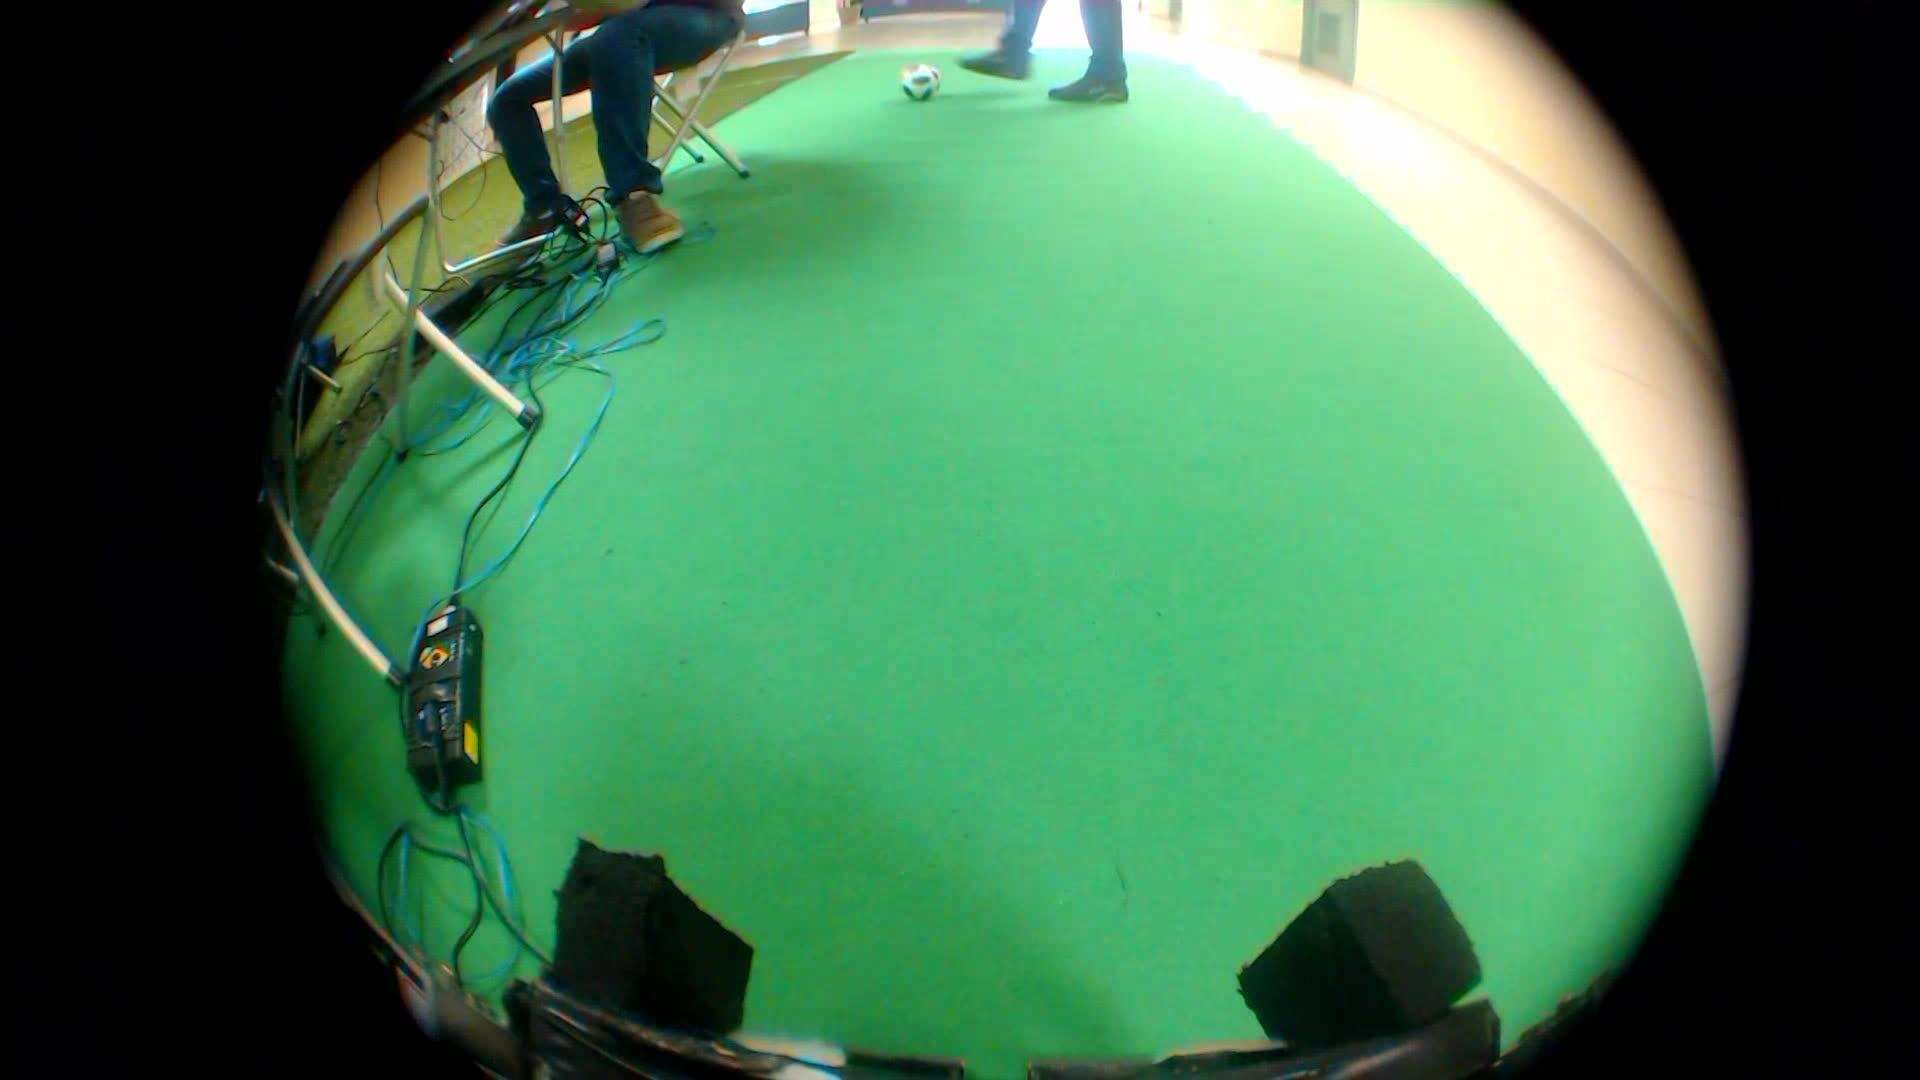ball: (889, 55, 945, 109)
